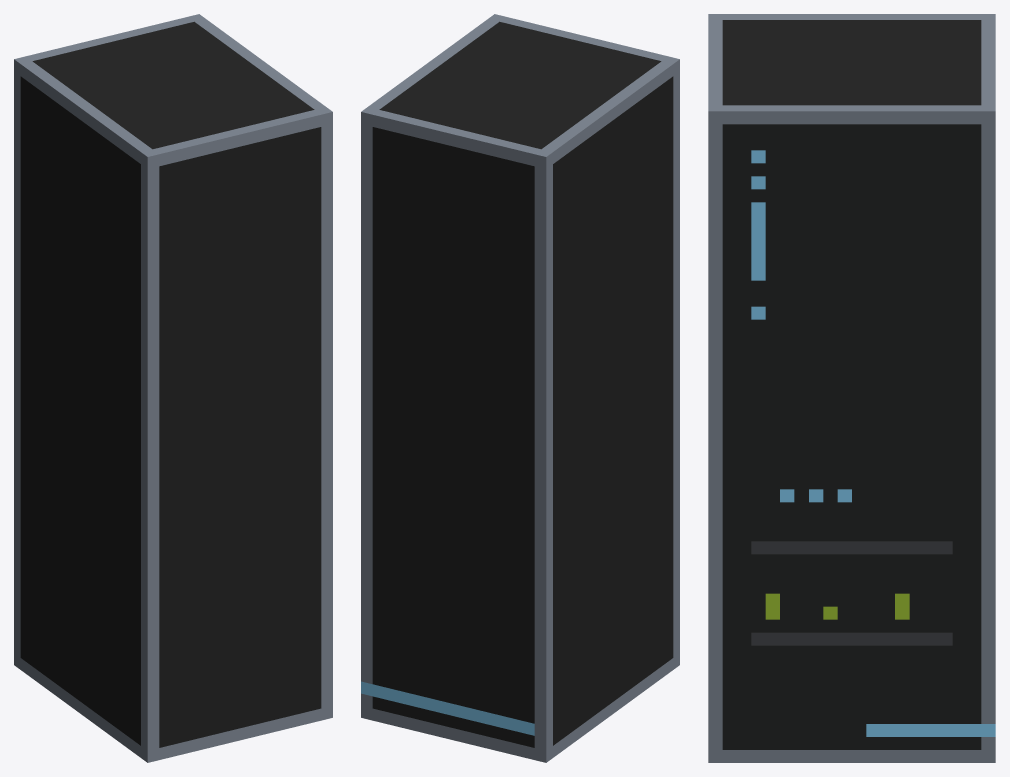
The model's file is server.obj.
3 views of the same model, side by side, from view 1: azimuth 30°, elevation 25°; view 2: azimuth 150°, elevation 25°; view 3: azimuth 270°, elevation 25° (orthographic). The views are drawn at different scales.
Bounding box in the file's own units: 1.6 × 5 × 2.
Materials: 1 (1 with a texture image).
